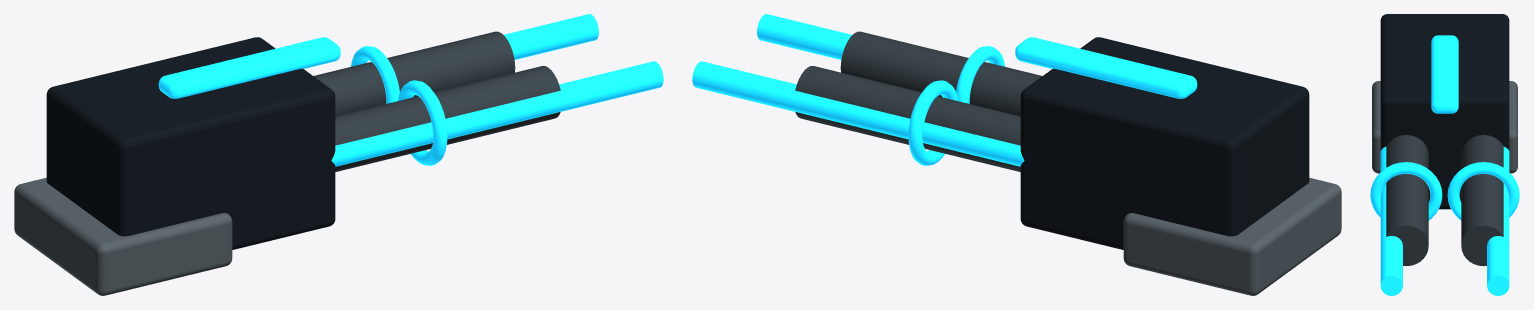
The picture shows the model from 3 angles, left to right: view 1: azimuth 30°, elevation 25°; view 2: azimuth 150°, elevation 25°; view 3: azimuth 270°, elevation 25°; orthographic projection. The views are drawn at different scales.
Size of the model in its own units: 6.3 by 1.7 by 1.74.
